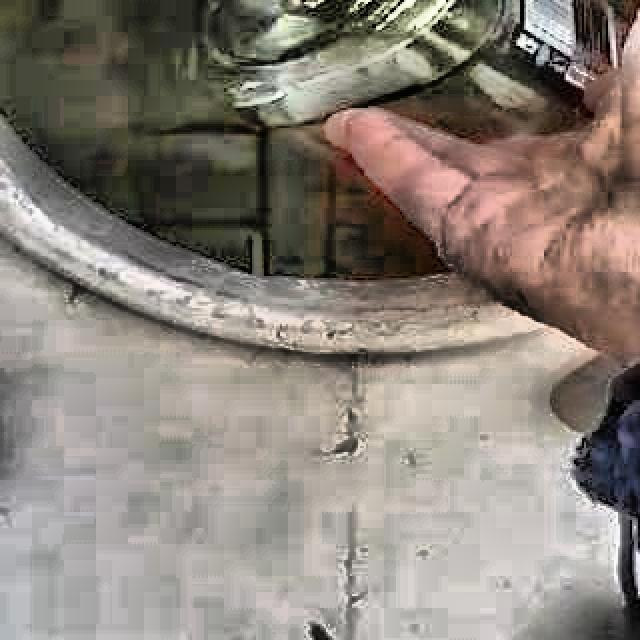glass: (205, 0, 627, 140)
